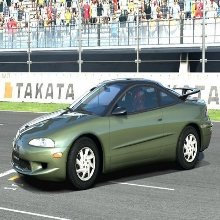no damage: (12, 78, 212, 190)
